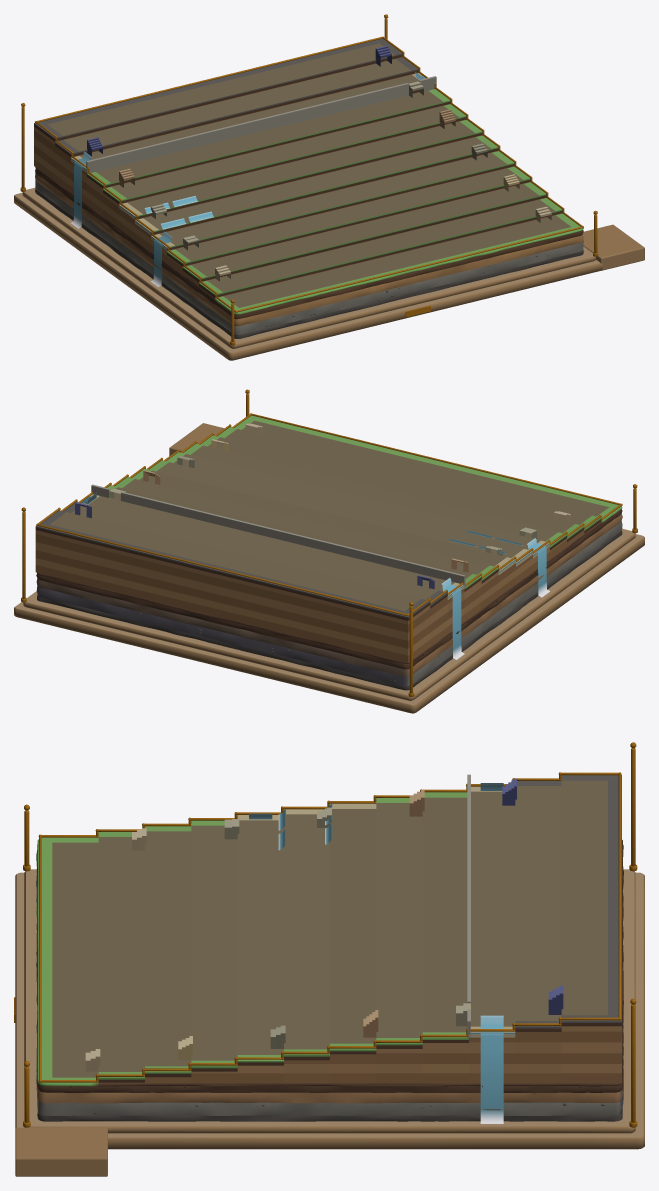
The model's file is board.glb.
The picture shows the model from 3 angles, top to bottom: view 1: azimuth 30°, elevation 25°; view 2: azimuth 150°, elevation 25°; view 3: azimuth 270°, elevation 25°; orthographic projection. The views are drawn at different scales.
Parts seen in each view (by area): view 1: Slab, Plinth, Brass, Waterfall; view 2: Slab, Plinth, Brass, Waterfall; view 3: Slab, Plinth, Brass, Waterfall.
Boxes of the visible parts, bbox=[...] form: Slab: bbox=[34, 38, 583, 338]; Plinth: bbox=[14, 187, 644, 360]; Brass: bbox=[20, 14, 598, 345]; Waterfall: bbox=[71, 72, 425, 286]; Slab: bbox=[35, 415, 622, 690]; Plinth: bbox=[14, 423, 644, 713]; Brass: bbox=[21, 389, 637, 696]; Waterfall: bbox=[81, 492, 549, 659]; Slab: bbox=[36, 774, 623, 1121]; Plinth: bbox=[15, 869, 644, 1176]; Brass: bbox=[14, 742, 637, 1127]; Waterfall: bbox=[249, 783, 503, 1123].
Bounding box in the file's own units: 15 × 3.49 × 13.63.
